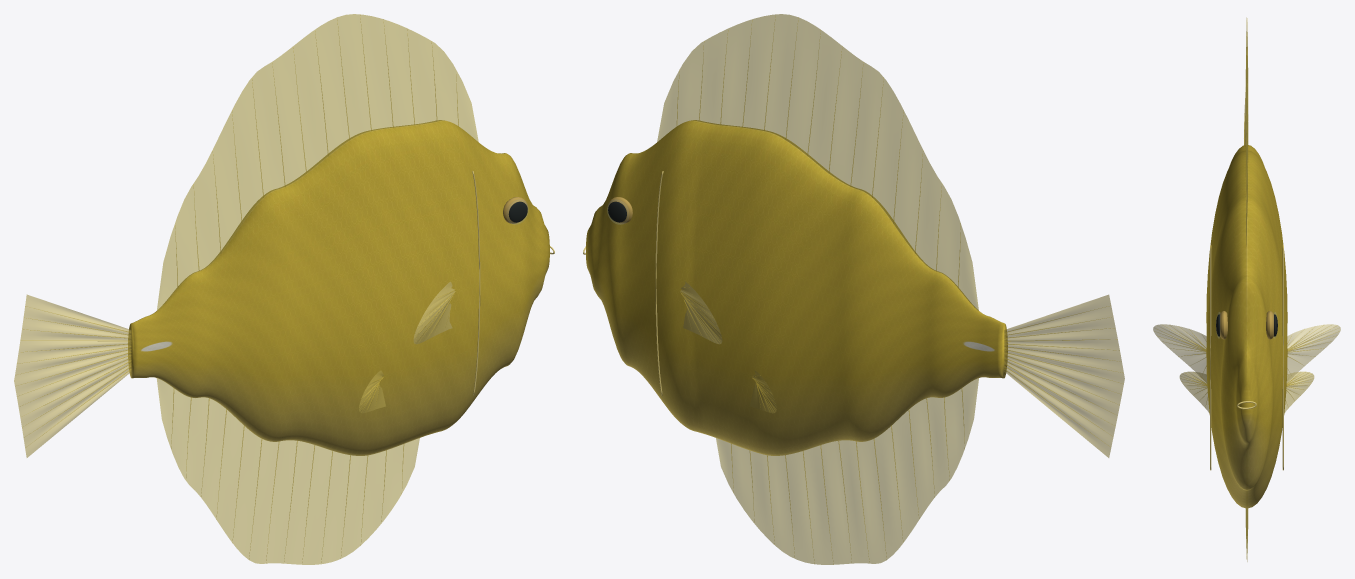
The model's file is yellowtang-desktop.glb.
The picture shows the model from 3 angles, left to right: view 1: azimuth 30°, elevation 25°; view 2: azimuth 150°, elevation 25°; view 3: azimuth 270°, elevation 25°; orthographic projection.
Parts seen in each view (by area): view 1: skin, dorsal, anal, tail, dorsal-ray, pectoral-left, pelvic-left; view 2: skin, dorsal, anal, tail, dorsal-ray, pectoral-left, pelvic-left; view 3: skin, pectoral-left, dorsal-ray, pelvic-left, operculum, eye-iris--1, dorsal.
Part boxes in pixels (x1,y1,x2,y2): skin: (128, 120, 549, 455); dorsal: (157, 14, 478, 310); anal: (156, 378, 419, 564); tail: (14, 294, 131, 457); dorsal-ray: (17, 15, 458, 562); pectoral-left: (413, 282, 455, 344); pelvic-left: (359, 370, 385, 413); skin: (586, 120, 1007, 455); dorsal: (657, 14, 978, 310); anal: (716, 378, 978, 564); tail: (1004, 294, 1124, 457); dorsal-ray: (676, 16, 1122, 564); pectoral-left: (680, 282, 722, 344); pelvic-left: (750, 371, 776, 413); skin: (1206, 145, 1287, 508); pectoral-left: (1153, 324, 1340, 383); dorsal-ray: (1154, 18, 1338, 561); pelvic-left: (1179, 371, 1314, 413); operculum: (1210, 245, 1283, 470); eye-iris--1: (1220, 311, 1273, 339); dorsal: (1246, 25, 1247, 245).
Size of the model in its own units: 0.5972 by 0.5771 by 0.1805.
Materials: 11 (1 with a texture image).
